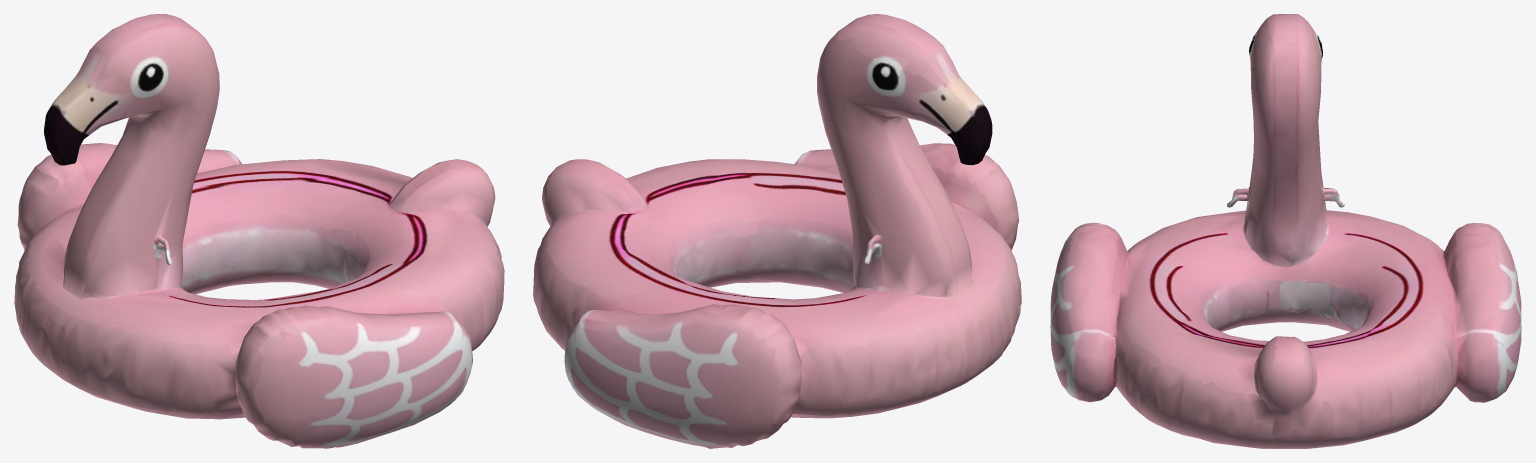
The model's file is flamingo.glb.
The picture shows the model from 3 angles, left to right: view 1: azimuth 30°, elevation 25°; view 2: azimuth 150°, elevation 25°; view 3: azimuth 270°, elevation 25°; orthographic projection. The views are drawn at different scales.
Parts seen in each view (by area): view 1: tmp4z2sm2ew.ply; view 2: tmp4z2sm2ew.ply; view 3: tmp4z2sm2ew.ply.
Part boxes in pixels (<box>): tmp4z2sm2ew.ply: <box>14,14,504,448</box>; tmp4z2sm2ew.ply: <box>533,14,1021,448</box>; tmp4z2sm2ew.ply: <box>1050,14,1521,448</box>.
Size of the model in its own units: 0.9501 by 0.7335 by 0.9855.
1 material, 1 textured.
